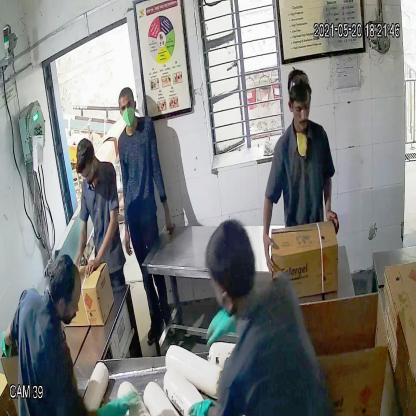no_goggles: (287, 95, 315, 118), (115, 94, 137, 116)
